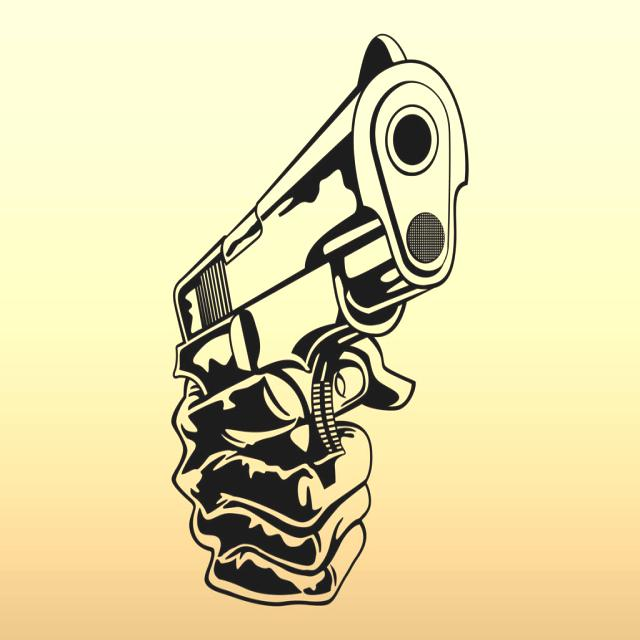pistol: (169, 10, 470, 604)
